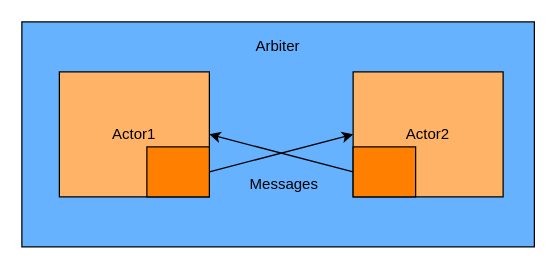
This 556x269 diagram has some shape labels left out. Here are the shapes that lost their labels. From the top down, the centre of each, then its label:
At [177,171]: "Actor2 Address".
At [384,171]: "Actor1 Address".
